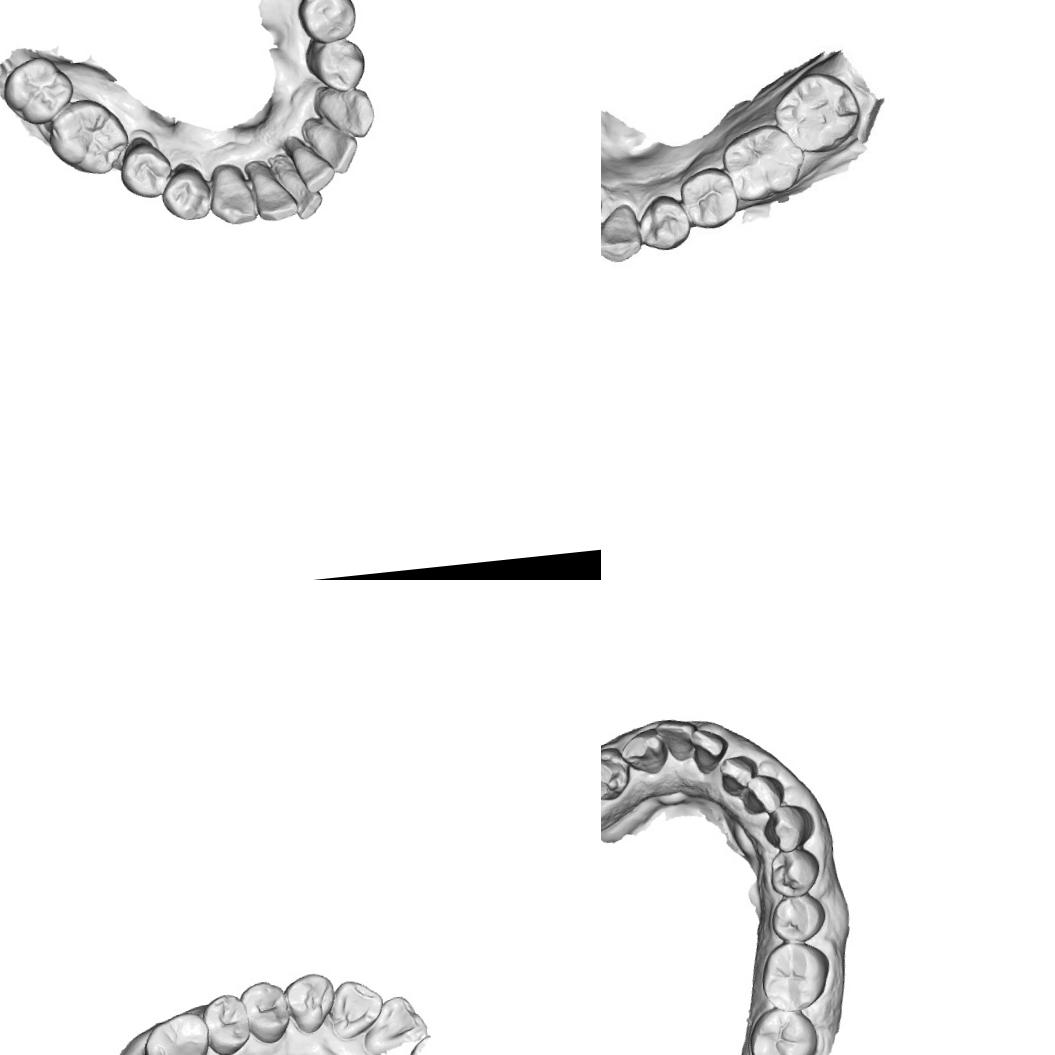canine: (315, 85, 379, 144), (283, 969, 338, 1036), (204, 164, 260, 229), (758, 801, 816, 855), (601, 202, 645, 266), (618, 725, 670, 778)
incisor: (359, 993, 429, 1055), (324, 976, 386, 1044), (302, 120, 362, 178), (276, 163, 328, 224), (249, 166, 301, 225), (290, 140, 340, 196), (688, 725, 732, 777), (654, 716, 700, 765), (739, 770, 787, 816), (718, 752, 759, 799)
molar: (766, 66, 864, 160), (44, 94, 134, 181), (718, 120, 805, 206), (0, 50, 78, 129), (757, 938, 834, 1016), (744, 1000, 830, 1055), (138, 1009, 215, 1055)
premolar: (676, 162, 742, 230), (301, 32, 369, 96), (115, 140, 178, 202), (238, 977, 292, 1047), (157, 162, 215, 225), (636, 192, 694, 253), (201, 991, 254, 1055), (767, 893, 829, 945), (293, 0, 361, 47), (766, 846, 822, 900), (601, 745, 633, 804)
